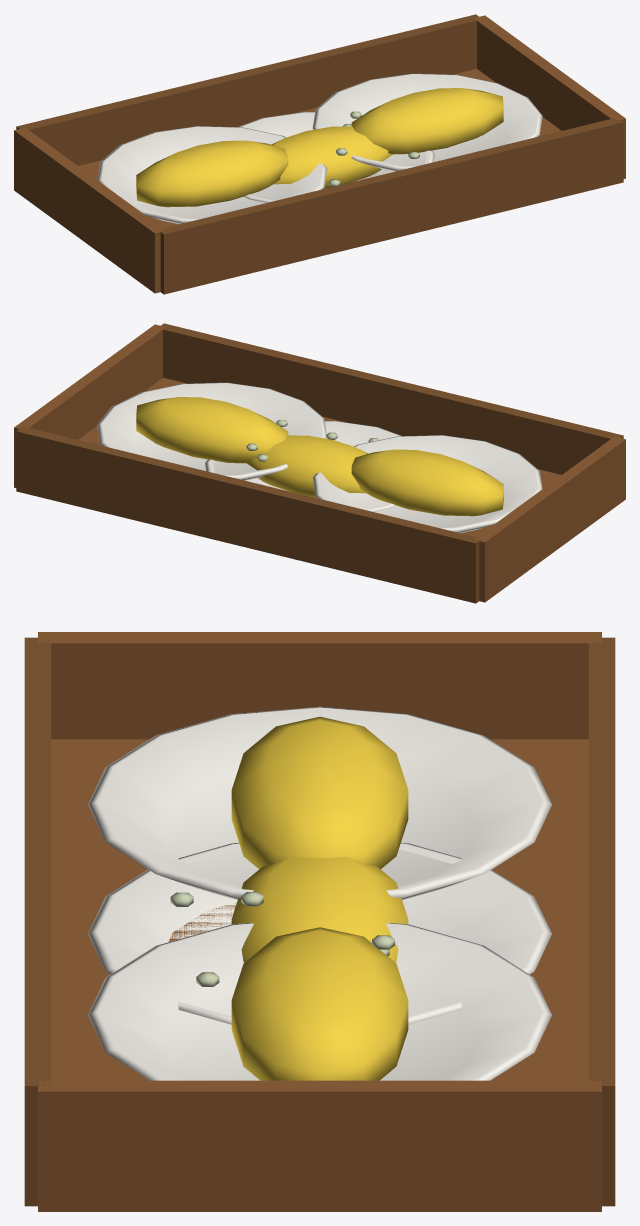
The model's file is Egg_Omelette.fbx.
3 views of the same model, one above another, from view 1: azimuth 30°, elevation 25°; view 2: azimuth 150°, elevation 25°; view 3: azimuth 270°, elevation 25° (orthographic). The views are drawn at different scales.
Visible parts, largest first — view 1: Egg_Omelette__Stack, Egg_Omelette; view 2: Egg_Omelette__Stack, Egg_Omelette; view 3: Egg_Omelette__Stack, Egg_Omelette, Egg_Omelette__Rotten.
Part boxes in pixels (left/top/right/bottom): Egg_Omelette__Stack: left=14, top=14, right=625, bottom=294; Egg_Omelette: left=237, top=112, right=434, bottom=202; Egg_Omelette__Stack: left=14, top=323, right=625, bottom=603; Egg_Omelette: left=205, top=421, right=402, bottom=511; Egg_Omelette__Stack: left=24, top=632, right=615, bottom=1211; Egg_Omelette: left=88, top=842, right=551, bottom=1024; Egg_Omelette__Rotten: left=170, top=892, right=394, bottom=986.
Bounding box in the file's own units: 0.328 × 0.04 × 0.178.
